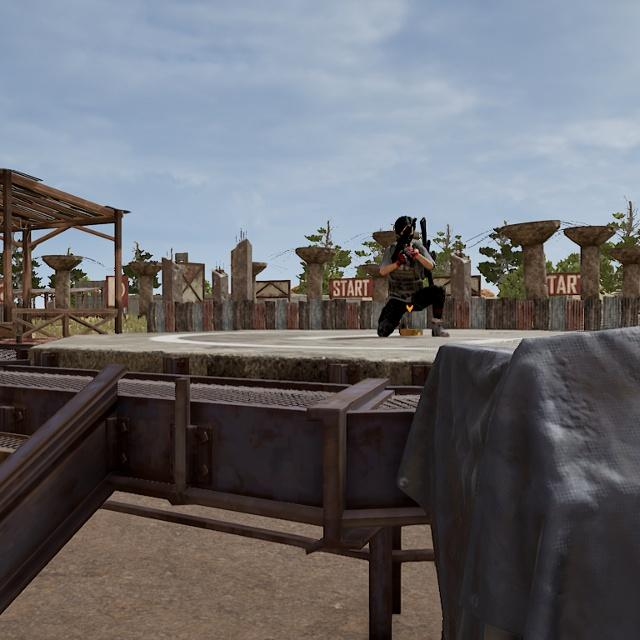head: (393, 216, 417, 244)
people: (375, 215, 451, 338)
